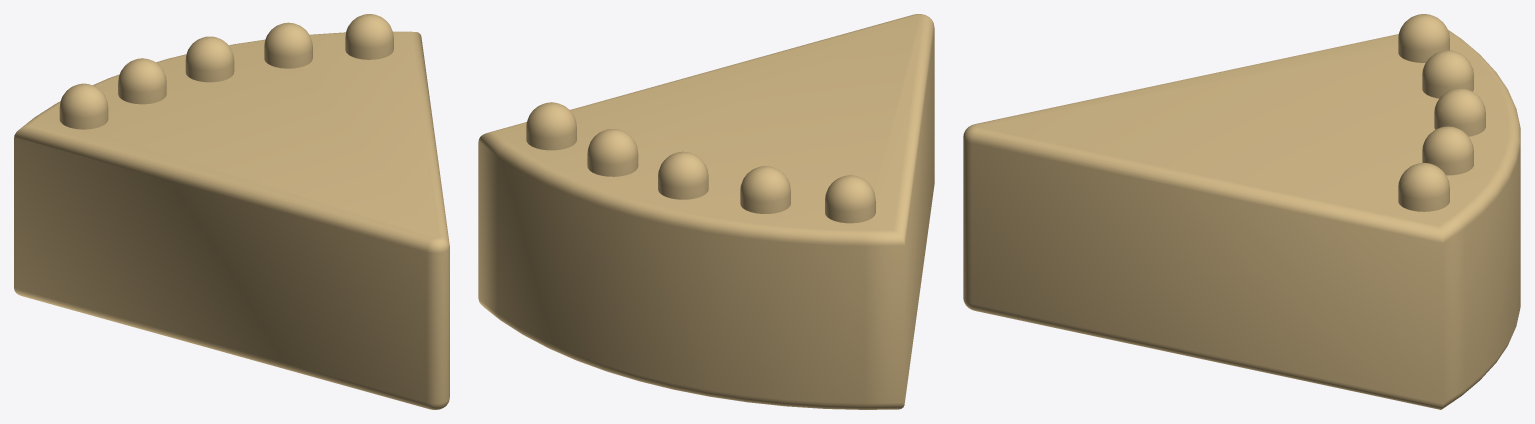
The model's file is simready-food_prepared_cake_d01.glb.
3 views of the same model, side by side, from view 1: azimuth 30°, elevation 25°; view 2: azimuth 150°, elevation 25°; view 3: azimuth 270°, elevation 25° (orthographic). The views are drawn at different scales.
Visible parts, largest first — view 1: body, dome.004, dome, dome.001, dome.002, dome.003; view 2: body, dome.001, dome.003, dome.004, dome, dome.002; view 3: body, dome.003, dome.001, dome.004, dome, dome.002.
Boxes of the visible parts, left/top/right/bottom form: body: left=14, top=31, right=449, bottom=409; dome.004: left=59, top=83, right=108, bottom=129; dome: left=185, top=36, right=234, bottom=82; dome.001: left=264, top=22, right=312, bottom=68; dome.002: left=118, top=58, right=166, bottom=104; dome.003: left=345, top=14, right=393, bottom=59; body: left=478, top=14, right=934, bottom=409; dome.001: left=587, top=129, right=638, bottom=176; dome.003: left=526, top=102, right=576, bottom=150; dome.004: left=825, top=175, right=875, bottom=223; dome: left=658, top=151, right=708, bottom=199; dome.002: left=740, top=166, right=790, bottom=213; body: left=963, top=30, right=1520, bottom=409; dome.003: left=1398, top=163, right=1449, bottom=211; dome.001: left=1422, top=126, right=1473, bottom=175; dome.004: left=1398, top=14, right=1449, bottom=62; dome: left=1434, top=88, right=1485, bottom=136; dome.002: left=1422, top=50, right=1473, bottom=98.
Bounding box in the file's own units: 0.1256 × 0.06 × 0.1393.
